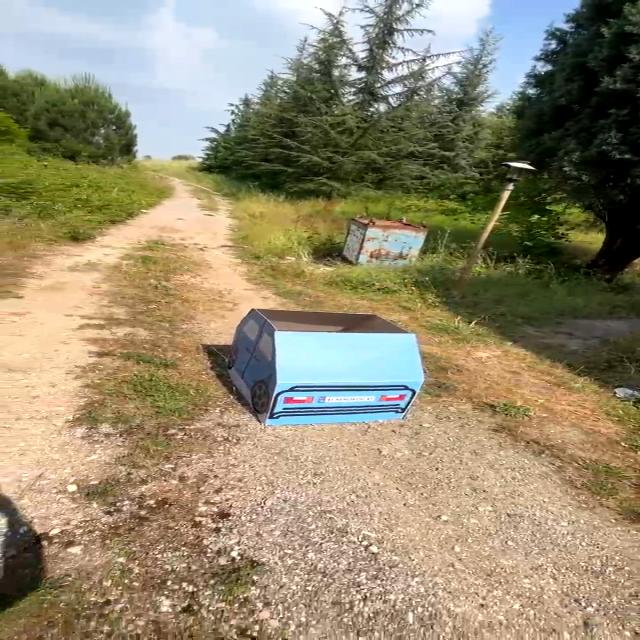blue_car: (203, 301, 427, 426)
